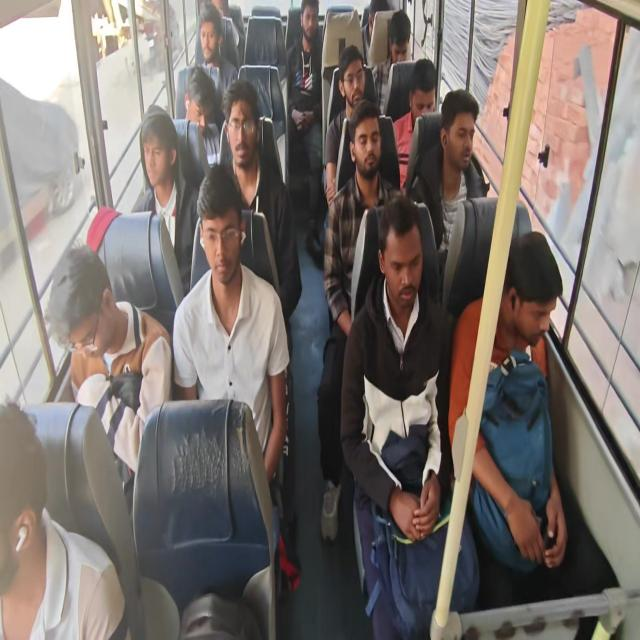person: (0, 408, 50, 569), (46, 250, 115, 364), (507, 246, 564, 358), (379, 200, 431, 320), (194, 182, 241, 282), (446, 92, 476, 170), (140, 118, 170, 186), (228, 103, 258, 170), (351, 118, 384, 178), (337, 58, 368, 106), (184, 80, 212, 131), (412, 76, 438, 128)
